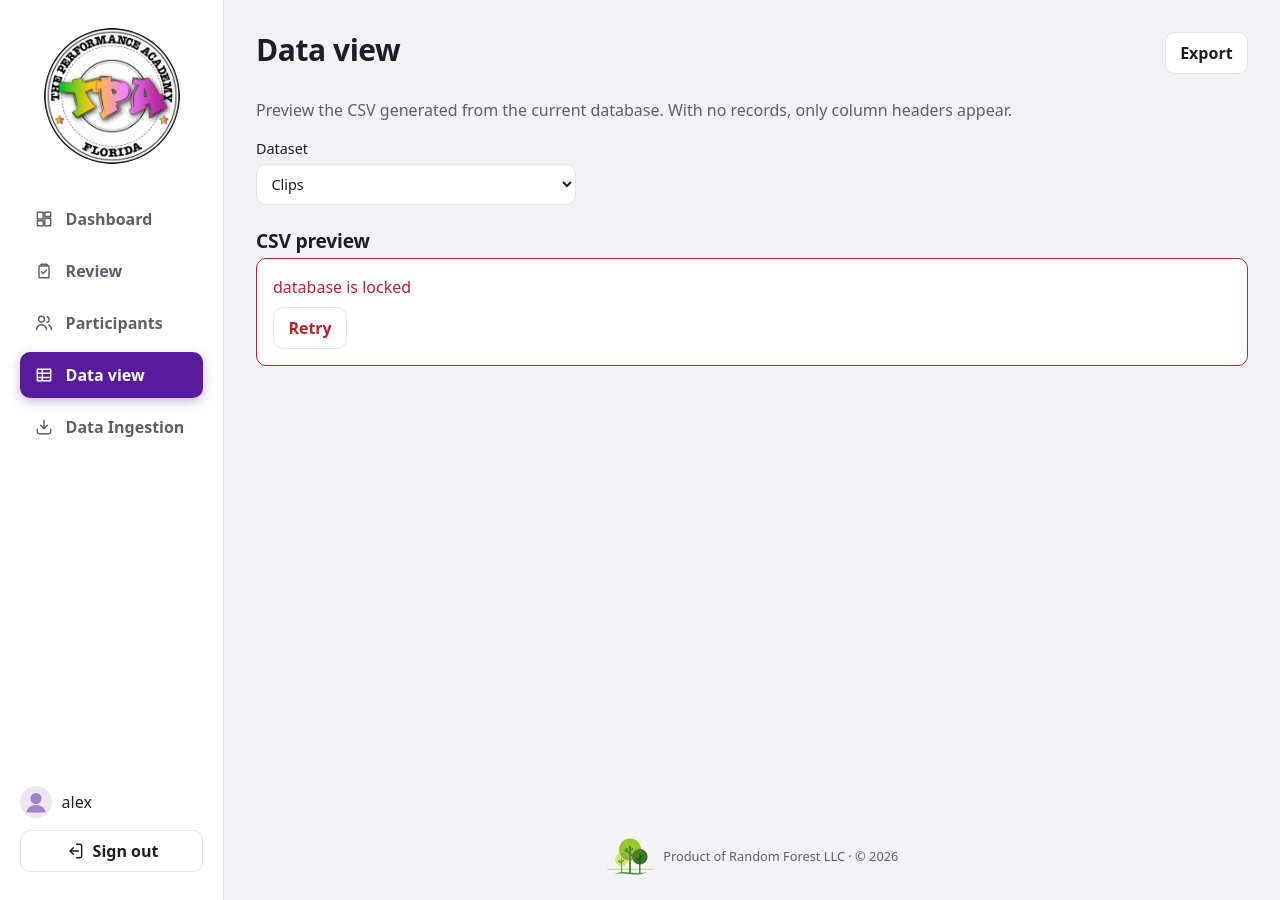
Scenario: data view › shows service errors and retries the preview
The image size is (1280, 900).
Expected: the message shows "database is locked", [273,276,411,298]
Click the button "Retry": (310, 328) [273,307,347,349]
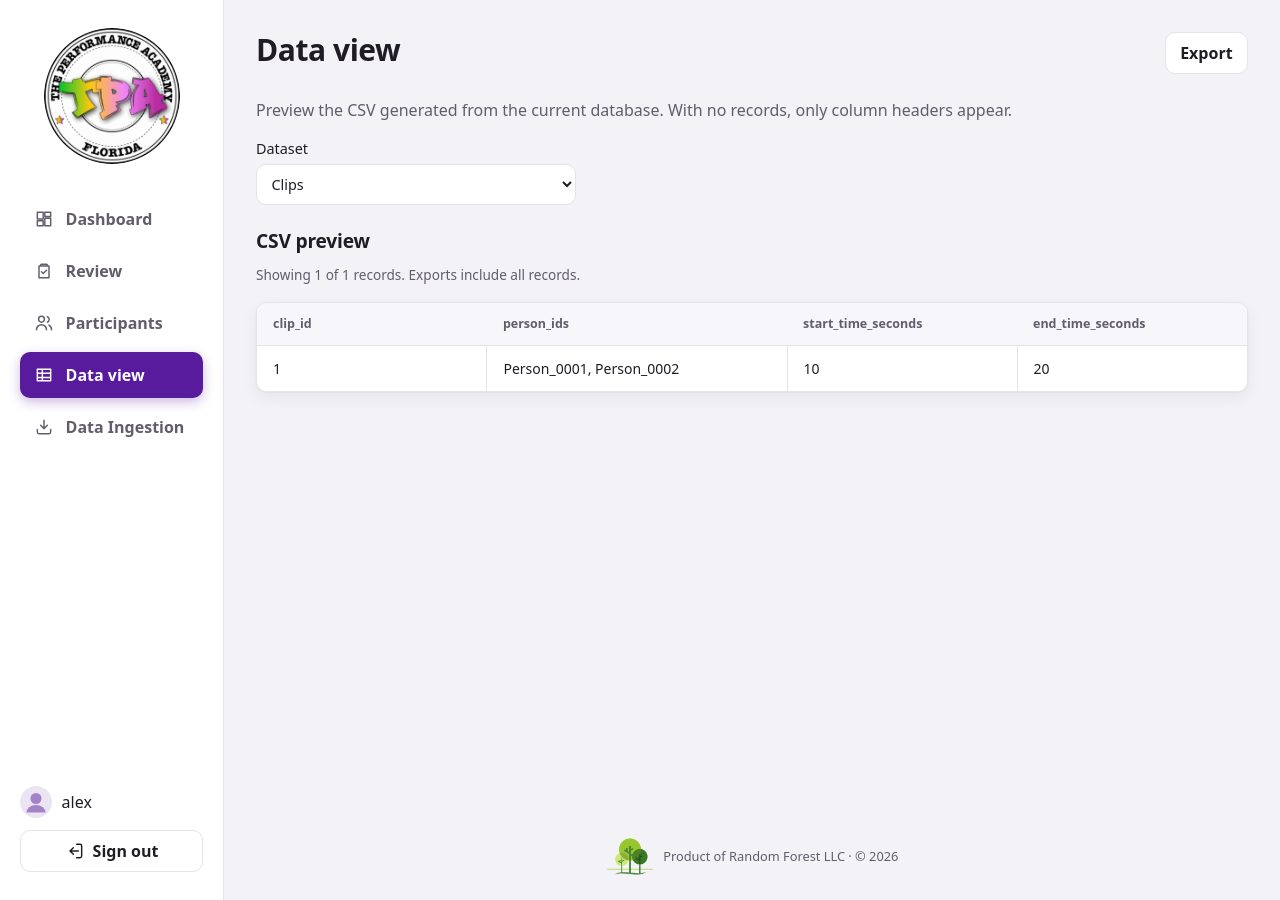
Result: the element named "CSV preview" shows "Person_0001, Person_0002" at [503,359,679,378]
